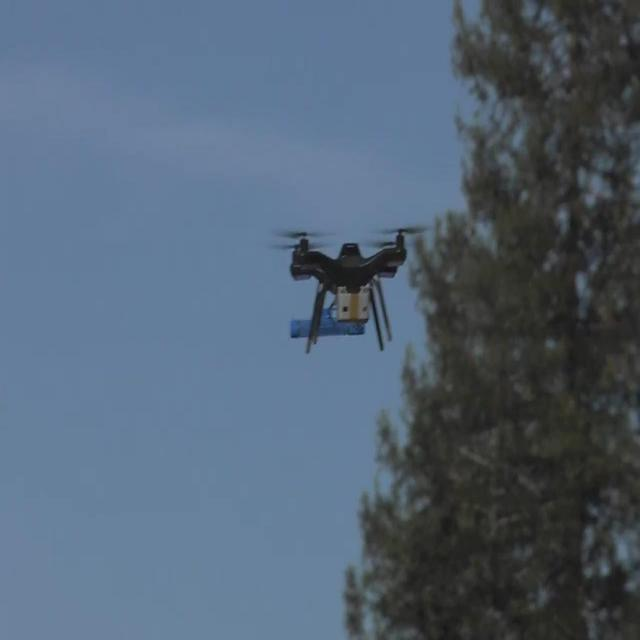UAV: (271, 228, 427, 354)
